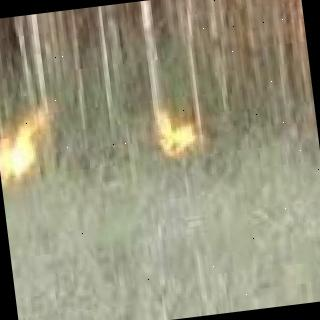fire: (0, 118, 50, 179), (160, 118, 202, 164)
